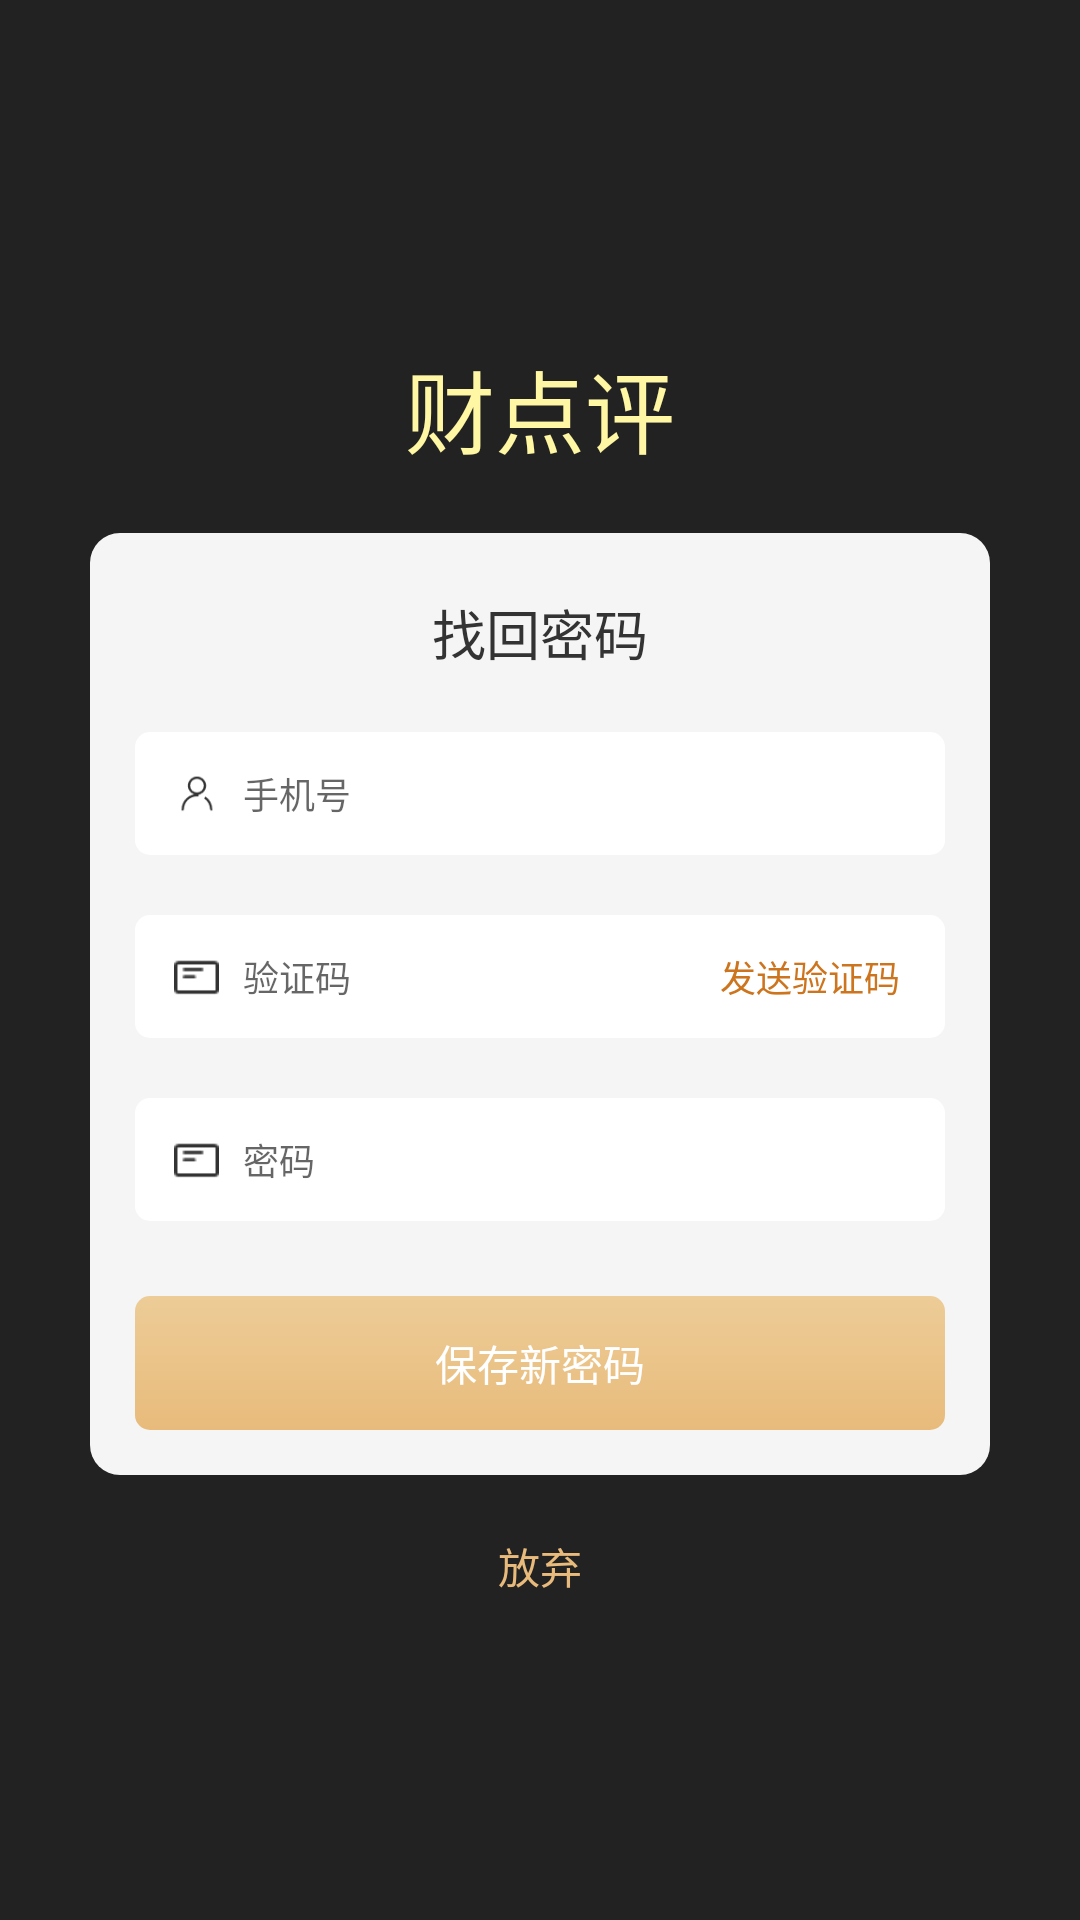

Where to tap for icons on this 1080w x 1920h app screen, as (x=x, y=y):
user: (x=197, y=793)
